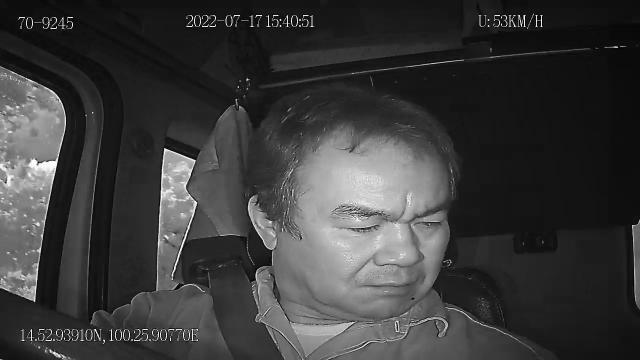SafeDriving: (330, 208, 388, 238), (402, 208, 450, 233)
Seatbelt: (205, 260, 287, 360)
